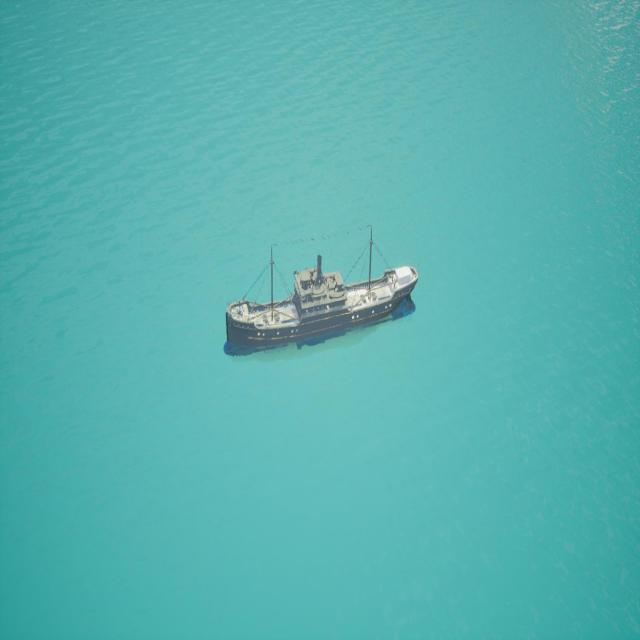fishing ship: (228, 230, 419, 355)
